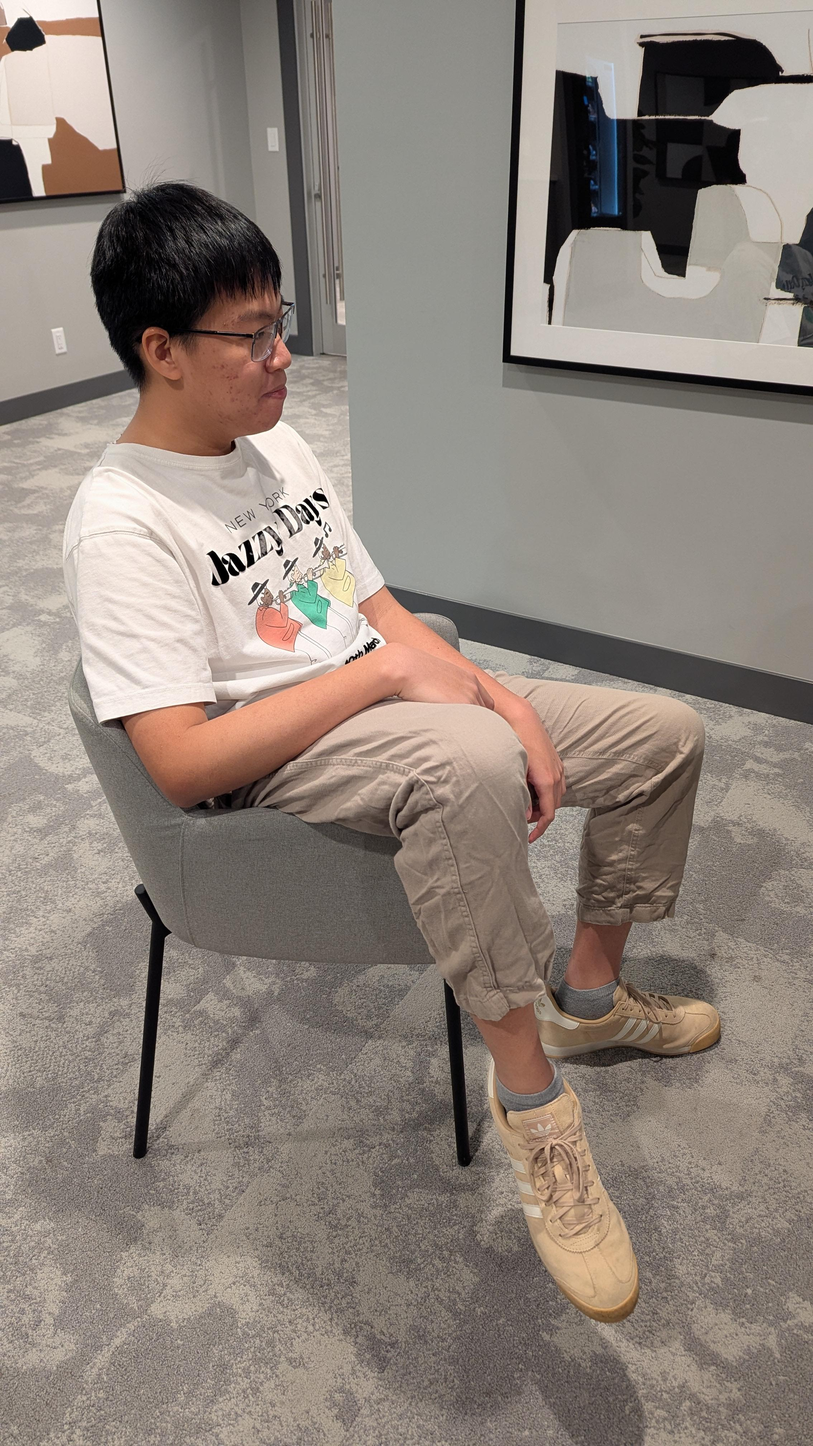BadPosture: (60, 177, 721, 1324)
